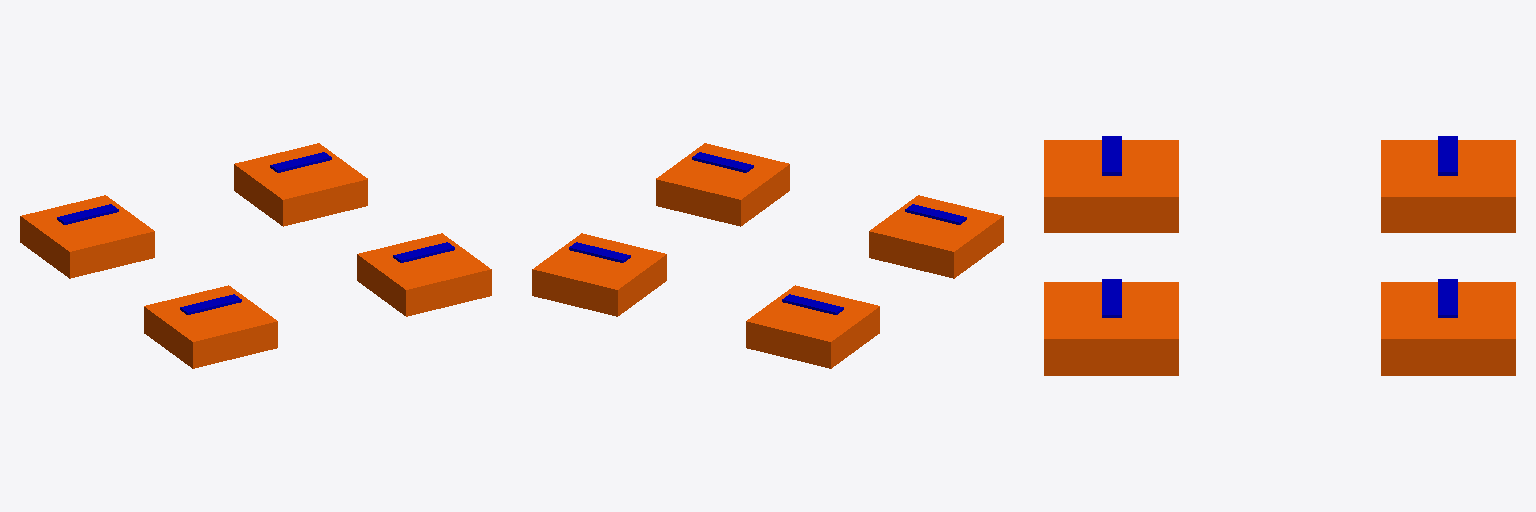
The robot description file, URDF, robot "flygripper_simple":
<?xml version="1.0" ?>
<!-- =================================================================================== -->
<!-- |    This document was autogenerated by xacro from src/flygripper_description/urdf/flygripper_simple.xacro | -->
<!-- |    EDITING THIS FILE BY HAND IS NOT RECOMMENDED                                 | -->
<!-- =================================================================================== -->
<robot name="flygripper_simple">
  <material name="black">
    <color rgba="0.0 0.0 0.0 1.0"/>
  </material>
  <material name="blue">
    <color rgba="0.0 0.0 0.8 1.0"/>
  </material>
  <material name="green">
    <color rgba="0.0 0.8 0.0 1.0"/>
  </material>
  <material name="grey">
    <color rgba="0.2 0.2 0.2 1.0"/>
  </material>
  <material name="pink">
    <color rgba="0.2 0.2 0.2 1.0"/>
  </material>
  <material name="silver">
    <color rgba="0.9137254901960784 0.9137254901960784 0.8470588235294118 1.0"/>
  </material>
  <material name="orange">
    <color rgba="1.0 0.4235294117647059 0.0392156862745098 1.0"/>
  </material>
  <material name="brown">
    <color rgba="0.8705882352941177 0.8117647058823529 0.7647058823529411 1.0"/>
  </material>
  <material name="red">
    <color rgba="0.8 0.0 0.0 1.0"/>
  </material>
  <material name="white">
    <color rgba="1.0 1.0 1.0 1.0"/>
  </material>
<![CDATA[
        mass: 0.6(part) + 4*0.004(rotor) + 0.0001*2 (imu, odom) + 0.15*2(objects)
        inertia_xy: (0.08333333*0.15*(0.1*0.1+0.03*0.03)+0.125*0.125*0.15)*4 = 0.02
        inertia_z: (0.08333333*0.15*(0.1*0.1+0.1*0.1)+0.125*0.125*2*0.15)*4 = 0.01

        rotor_pos = (0.1 + 0.15 - joint_position * 0.02)/2;
                  range from (0.05, 0.125), where joint_position range from (7.5, 0)

        ^                 ^    ------------------
      < 2 >             < 0 >  part_width: 0.1 m                         X
        V                 V    __________________                        ^
        |                 |                                              |
        |                 |    part_distance: 0.15 m              Y <----o
        ^                 ^    ------------------
      < 1 > ----------- < 3 >  point 3 in 0 frame: [-(part_distance + 2*part_width/2), 0, 0] => [-0.25, 0, 0]
        V                 V

    ]]>  <!-- rad/s -->
  <!-- m -->
  <!-- m -->
  <!--    <xacro:property name="prismatic_joint_limit" value="0.0"/> &lt;!&ndash; rigid!!!!!! &ndash;&gt;-->
  <!-- N -->
  <!-- Virtual dummy root link -->
  <link name="odom"/>
  <joint name="fixed" type="fixed">
    <parent link="odom"/>
    <child link="right_up_part"/>
  </joint>
  <!-- Right up -->
  <link name="right_up_part">
    <collision>
      <origin rpy="0 0 0" xyz="0 0 0"/>
      <geometry>
        <box size="0.1 0.1 0.03"/>
      </geometry>
    </collision>
    <visual>
      <origin rpy="0 0 0" xyz="0 0 0"/>
      <geometry>
        <box size="0.1 0.1 0.03"/>
      </geometry>
      <material name="orange"/>
    </visual>
    <inertial>
      <origin rpy="0 0 0" xyz="0 0 0"/>
      <mass value="0.15"/>
      <inertia ixx="0.00013624994550000003" ixy="0.0" ixz="0.0" iyy="0.00013624994550000003" iyz="0.0" izz="0.0002499999"/>
    </inertial>
  </link>
  <joint name="right_up_rotor_joint" type="continuous">
    <axis xyz="0 0 1"/>
    <origin rpy="0 0 0" xyz="0 0 0.025"/>
    <!--      limit not work while type="continuous"-->
    <!--        <limit effort="1.8" velocity="50."/>-->
    <!--        <dynamics damping="0.0" friction="0.0"/>-->
    <parent link="right_up_part"/>
    <child link="right_up_rotor"/>
  </joint>
  <link name="right_up_rotor">
    <collision>
      <origin rpy="0 0 0" xyz="0 0 0"/>
      <geometry>
        <box size="0.0635 0.015 0.003"/>
      </geometry>
    </collision>
    <visual>
      <origin rpy="0 0 0" xyz="0 0 0"/>
      <geometry>
        <box size="0.0635 0.015 0.003"/>
      </geometry>
      <material name="blue"/>
    </visual>
    <inertial>
      <origin rpy="0 0 0" xyz="0 0 0"/>
      <mass value="0.004"/>
      <inertia ixx="7.79999688e-08" ixy="0.0" ixz="0.0" iyy="1.3470827945000002e-06" iyz="0.0" izz="1.4190827657000003e-06"/>
    </inertial>
  </link>
  <!-- Right prismatic -->
  <joint name="right_prismatic_joint" type="prismatic">
    <axis xyz="1 0 0"/>
    <origin rpy="0 0 0" xyz="-0.25 0 0"/>
    <limit effort="50.0" lower="0" upper="0.1499" velocity="0.2"/>
    <dynamics damping="0.5" friction="0.5"/>
    <parent link="right_up_part"/>
    <child link="right_down_part"/>
  </joint>
  <!-- Right down -->
  <link name="right_down_part">
    <collision>
      <origin rpy="0 0 0" xyz="0 0 0"/>
      <geometry>
        <box size="0.1 0.1 0.03"/>
      </geometry>
    </collision>
    <visual>
      <origin rpy="0 0 0" xyz="0 0 0"/>
      <geometry>
        <box size="0.1 0.1 0.03"/>
      </geometry>
      <material name="orange"/>
    </visual>
    <inertial>
      <origin rpy="0 0 0" xyz="0 0 0"/>
      <mass value="0.15"/>
      <inertia ixx="0.00013624994550000003" ixy="0.0" ixz="0.0" iyy="0.00013624994550000003" iyz="0.0" izz="0.0002499999"/>
    </inertial>
  </link>
  <joint name="right_down_rotor_joint" type="continuous">
    <axis xyz="0 0 1"/>
    <origin rpy="0 0 0" xyz="0 0 0.025"/>
    <!--      limit not work while type="continuous"-->
    <!--        <limit effort="1.8" velocity="50."/>-->
    <!--        <dynamics damping="0.0" friction="0.0"/>-->
    <parent link="right_down_part"/>
    <child link="right_down_rotor"/>
  </joint>
  <link name="right_down_rotor">
    <collision>
      <origin rpy="0 0 0" xyz="0 0 0"/>
      <geometry>
        <box size="0.0635 0.015 0.003"/>
      </geometry>
    </collision>
    <visual>
      <origin rpy="0 0 0" xyz="0 0 0"/>
      <geometry>
        <box size="0.0635 0.015 0.003"/>
      </geometry>
      <material name="blue"/>
    </visual>
    <inertial>
      <origin rpy="0 0 0" xyz="0 0 0"/>
      <mass value="0.004"/>
      <inertia ixx="7.79999688e-08" ixy="0.0" ixz="0.0" iyy="1.3470827945000002e-06" iyz="0.0" izz="1.4190827657000003e-06"/>
    </inertial>
  </link>
  <!-- Down prismatic -->
  <joint name="down_prismatic_joint" type="prismatic">
    <axis xyz="0 -1 0"/>
    <origin rpy="0 0 0" xyz="0 0.25 0"/>
    <limit effort="50.0" lower="0" upper="0.1499" velocity="0.2"/>
    <dynamics damping="0.5" friction="0.5"/>
    <parent link="right_down_part"/>
    <child link="left_down_part"/>
    <mimic joint="right_prismatic_joint" multiplier="1" offset="0"/>
  </joint>
  <!-- Left down -->
  <link name="left_down_part">
    <collision>
      <origin rpy="0 0 0" xyz="0 0 0"/>
      <geometry>
        <box size="0.1 0.1 0.03"/>
      </geometry>
    </collision>
    <visual>
      <origin rpy="0 0 0" xyz="0 0 0"/>
      <geometry>
        <box size="0.1 0.1 0.03"/>
      </geometry>
      <material name="orange"/>
    </visual>
    <inertial>
      <origin rpy="0 0 0" xyz="0 0 0"/>
      <mass value="0.15"/>
      <inertia ixx="0.00013624994550000003" ixy="0.0" ixz="0.0" iyy="0.00013624994550000003" iyz="0.0" izz="0.0002499999"/>
    </inertial>
  </link>
  <joint name="left_down_rotor_joint" type="continuous">
    <axis xyz="0 0 1"/>
    <origin rpy="0 0 0" xyz="0 0 0.025"/>
    <!--      limit not work while type="continuous"-->
    <!--        <limit effort="1.8" velocity="50."/>-->
    <!--        <dynamics damping="0.0" friction="0.0"/>-->
    <parent link="left_down_part"/>
    <child link="left_down_rotor"/>
  </joint>
  <link name="left_down_rotor">
    <collision>
      <origin rpy="0 0 0" xyz="0 0 0"/>
      <geometry>
        <box size="0.0635 0.015 0.003"/>
      </geometry>
    </collision>
    <visual>
      <origin rpy="0 0 0" xyz="0 0 0"/>
      <geometry>
        <box size="0.0635 0.015 0.003"/>
      </geometry>
      <material name="blue"/>
    </visual>
    <inertial>
      <origin rpy="0 0 0" xyz="0 0 0"/>
      <mass value="0.004"/>
      <inertia ixx="7.79999688e-08" ixy="0.0" ixz="0.0" iyy="1.3470827945000002e-06" iyz="0.0" izz="1.4190827657000003e-06"/>
    </inertial>
  </link>
  <!-- Left prismatic -->
  <joint name="left_prismatic_joint" type="prismatic">
    <axis xyz="-1 0 0"/>
    <origin rpy="0 0 0" xyz="0.25 0 0"/>
    <limit effort="50.0" lower="0" upper="0.1499" velocity="0.2"/>
    <dynamics damping="0.5" friction="0.5"/>
    <parent link="left_down_part"/>
    <child link="left_up_part"/>
    <mimic joint="right_prismatic_joint" multiplier="1" offset="0"/>
  </joint>
  <!-- Left up -->
  <link name="left_up_part">
    <collision>
      <origin rpy="0 0 0" xyz="0 0 0"/>
      <geometry>
        <box size="0.1 0.1 0.03"/>
      </geometry>
    </collision>
    <visual>
      <origin rpy="0 0 0" xyz="0 0 0"/>
      <geometry>
        <box size="0.1 0.1 0.03"/>
      </geometry>
      <material name="orange"/>
    </visual>
    <inertial>
      <origin rpy="0 0 0" xyz="0 0 0"/>
      <mass value="0.15"/>
      <inertia ixx="0.00013624994550000003" ixy="0.0" ixz="0.0" iyy="0.00013624994550000003" iyz="0.0" izz="0.0002499999"/>
    </inertial>
  </link>
  <joint name="left_up_rotor_joint" type="continuous">
    <axis xyz="0 0 1"/>
    <origin rpy="0 0 0" xyz="0 0 0.025"/>
    <!--      limit not work while type="continuous"-->
    <!--        <limit effort="1.8" velocity="50."/>-->
    <!--        <dynamics damping="0.0" friction="0.0"/>-->
    <parent link="left_up_part"/>
    <child link="left_up_rotor"/>
  </joint>
  <link name="left_up_rotor">
    <collision>
      <origin rpy="0 0 0" xyz="0 0 0"/>
      <geometry>
        <box size="0.0635 0.015 0.003"/>
      </geometry>
    </collision>
    <visual>
      <origin rpy="0 0 0" xyz="0 0 0"/>
      <geometry>
        <box size="0.0635 0.015 0.003"/>
      </geometry>
      <material name="blue"/>
    </visual>
    <inertial>
      <origin rpy="0 0 0" xyz="0 0 0"/>
      <mass value="0.004"/>
      <inertia ixx="7.79999688e-08" ixy="0.0" ixz="0.0" iyy="1.3470827945000002e-06" iyz="0.0" izz="1.4190827657000003e-06"/>
    </inertial>
  </link>
  <!-- IMU and Odom -->
  <joint name="odom_joint" type="revolute">
    <origin rpy="0.0 0.0 0.0" xyz="0.0 0.0 0.0"/>
    <parent link="left_down_part"/>
    <child link="odom_link"/>
    <limit effort="0" lower="0" upper="0" velocity="0"/>
  </joint>
  <link name="odom_link">
    <inertial>
      <inertia ixx="0.00001" ixy="0.0" ixz="0.0" iyy="0.00001" iyz="0.0" izz="0.00001"/>
      <!-- [kg m^2] [kg m^2] [kg m^2] [kg m^2] [kg m^2] [kg m^2] -->
      <mass value="0.001"/>
      <!-- kg -->
      <origin rpy="0 0 0" xyz="0 0 0"/>
    </inertial>
  </link>
  <joint name="imu_joint" type="revolute">
    <origin rpy="0.0 0.0 0.0" xyz="0.0 0.0 0.0"/>
    <parent link="left_down_part"/>
    <child link="imu_link"/>
    <limit effort="0" lower="0" upper="0" velocity="0"/>
  </joint>
  <link name="imu_link">
    <inertial>
      <inertia ixx="0.00001" ixy="0.0" ixz="0.0" iyy="0.00001" iyz="0.0" izz="0.00001"/>
      <!-- [kg m^2] [kg m^2] [kg m^2] [kg m^2] [kg m^2] [kg m^2] -->
      <mass value="0.001"/>
      <!-- kg -->
      <origin rpy="0 0 0" xyz="0 0 0"/>
    </inertial>
  </link>
  <!-- Object for biased CoG -->
  <!--    <link name="object1_link">-->
  <!--        <inertial>-->
  <!--            <mass value="0.08"/> &lt;!&ndash; kg &ndash;&gt;-->
  <!--            <xacro:box_inertia x="0.05" y="0.05" z="0.05" mass="0.08" />-->
  <!--            <origin xyz="0 0 0" rpy="0 0 0" />-->
  <!--        </inertial>-->
  <!--    </link>-->
  <!--    <joint name="object1_joint" type="revolute">-->
  <!--        <origin xyz="0.0 0.0 0.0" rpy="0.0 0.0 0.0" />-->
  <!--        <parent link="left_down_part"/>-->
  <!--        <child link="object1_link"/>-->
  <!--        <limit upper="0" lower="0" effort="0" velocity="0" />-->
  <!--    </joint>-->
  <!--    <link name="object2_link">-->
  <!--        <inertial>-->
  <!--            <mass value="0.08"/> &lt;!&ndash; kg &ndash;&gt;-->
  <!--            <xacro:box_inertia x="0.05" y="0.05" z="0.05" mass="0.08" />-->
  <!--            <origin xyz="0 0 0" rpy="0 0 0" />-->
  <!--        </inertial>-->
  <!--    </link>-->
  <!--    <joint name="object2_joint" type="revolute">-->
  <!--        <origin xyz="0.0 0.0 0.0" rpy="0.0 0.0 0.0" />-->
  <!--        <parent link="right_down_part"/>-->
  <!--        <child link="object2_link"/>-->
  <!--        <limit upper="0" lower="0" effort="0" velocity="0" />-->
  <!--    </joint>-->
  <gazebo>
    <plugin filename="libgazebo_rotor_plugin.so" name="flygripper_simple_rotor_plugin">
      <robotNamespace>flygripper_simple</robotNamespace>
      <rotor id="0">
        <jointName>right_up_rotor_joint</jointName>
        <linkName>right_up_rotor</linkName>
        <turningDirection>ccw</turningDirection>
      </rotor>
      <rotor id="1">
        <jointName>left_down_rotor_joint</jointName>
        <linkName>left_down_rotor</linkName>
        <turningDirection>ccw</turningDirection>
      </rotor>
      <rotor id="2">
        <jointName>left_up_rotor_joint</jointName>
        <linkName>left_up_rotor</linkName>
        <turningDirection>cw</turningDirection>
      </rotor>
      <rotor id="3">
        <jointName>right_down_rotor_joint</jointName>
        <linkName>right_down_rotor</linkName>
        <turningDirection>cw</turningDirection>
      </rotor>
      <motorConstant>6.56145e-7</motorConstant>
      <momentConstant>0.0157</momentConstant>
      <rotorDragCoefficient>0.0</rotorDragCoefficient>
      <!-- 8.06428e-05 -->
      <rollingMomentCoefficient>0.0</rollingMomentCoefficient>
      <!-- 0.000001 -->
      <maxRotVelocity>4000</maxRotVelocity>
      <!-- 3002 -->
      <timeConstantUp>0.0</timeConstantUp>
      <!-- 0.0125 -->
      <timeConstantDown>0.0</timeConstantDown>
      <!-- 0.025 -->
      <rotorVelocitySlowdownSim>10</rotorVelocitySlowdownSim>
      <rosCommandTopicName>rotor_command</rosCommandTopicName>
      <rosFeedbackTopicName>rotor_speed</rosFeedbackTopicName>
    </plugin>
    <plugin filename="libgazebo_reconfigurable_plugin.so" name="flygripper_simple_reconfigurable_plugin">
      <robotNamespace>flygripper_simple</robotNamespace>
      <rosCommandTopicName>actuator_command</rosCommandTopicName>
      <rosFeedbackTopicName>actuator_state</rosFeedbackTopicName>
      <reconfigurableJoint id="0">
        <jointName>right_prismatic_joint</jointName>
        <multiplier>0.02</multiplier>
        <!-- Mapping control input from 0-1.0 -->
        <offset>0.0</offset>
        <sensitiveness>0.0</sensitiveness>
        <kp>300</kp>
        <kd>30</kd>
      </reconfigurableJoint>
      <reconfigurableJoint id="1">
        <jointName>down_prismatic_joint</jointName>
        <multiplier>0.02</multiplier>
        <offset>0.0</offset>
        <sensitiveness>0.0</sensitiveness>
        <kp>300</kp>
        <kd>30</kd>
      </reconfigurableJoint>
      <reconfigurableJoint id="2">
        <jointName>left_prismatic_joint</jointName>
        <multiplier>0.02</multiplier>
        <offset>0.0</offset>
        <sensitiveness>0.0</sensitiveness>
        <kp>300</kp>
        <kd>30</kd>
      </reconfigurableJoint>
    </plugin>
    <plugin filename="libgazebo_odometry_plugin.so" name="flygripper_simple_odometry_plugin">
      <robotNamespace>flygripper_simple</robotNamespace>
      <linkName>odom_link</linkName>
      <randomEngineSeed>0</randomEngineSeed>
      <noiseNormalPosition>0.0 0.0 0.0</noiseNormalPosition>
      <noiseNormalQuaternion>0.0 0.0 0.0</noiseNormalQuaternion>
      <noiseNormalLinearVelocity>0.0 0.0 0.0</noiseNormalLinearVelocity>
      <noiseNormalAngularVelocity>0.0 0.0 0.0</noiseNormalAngularVelocity>
      <rosOdomTopicName>odom</rosOdomTopicName>
      <frameId>world</frameId>
      <childFrameId>flygripper_simple</childFrameId>
      <!-- xjb 没啥用 不发 tf-->
      <publishFrequency>333</publishFrequency>
      <!-- 333 -->
      <measurementDelay>0.0</measurementDelay>
      <!-- 0.02 -->
    </plugin>
    <plugin filename="libgazebo_imu_plugin.so" name="flygripper_simple_imu_plugin">
      <robotNamespace>flygripper_simple</robotNamespace>
      <linkName>imu_link</linkName>
      <frameId>flygripper_simple</frameId>
      <!-- xjb 没啥用 不发 tf -->
      <randomEngineSeed>0</randomEngineSeed>
      <gyroscopeNoiseDensity>0.0003394</gyroscopeNoiseDensity>
      <gyroscopeBiasRandomWalk>0.000038785</gyroscopeBiasRandomWalk>
      <gyroscopeBiasCorrelationTime>1000.0</gyroscopeBiasCorrelationTime>
      <gyroscopeTurnOnBiasSigma>0.0087</gyroscopeTurnOnBiasSigma>
      <accelerometerNoiseDensity>0.004</accelerometerNoiseDensity>
      <accelerometerRandomWalk>0.006</accelerometerRandomWalk>
      <accelerometerBiasCorrelationTime>300.0</accelerometerBiasCorrelationTime>
      <accelerometerTurnOnBiasSigma>0.1960</accelerometerTurnOnBiasSigma>
      <!--                <gyroscopeNoiseDensity>0.0</gyroscopeNoiseDensity>-->
      <!--                <gyroscopeBiasRandomWalk>0.0</gyroscopeBiasRandomWalk>-->
      <!--                <gyroscopeBiasCorrelationTime>0.0</gyroscopeBiasCorrelationTime>-->
      <!--                <gyroscopeTurnOnBiasSigma>0.0</gyroscopeTurnOnBiasSigma>-->
      <!--                <accelerometerNoiseDensity>0.0</accelerometerNoiseDensity>-->
      <!--                <accelerometerRandomWalk>0.0</accelerometerRandomWalk>-->
      <!--                <accelerometerBiasCorrelationTime>0.0</accelerometerBiasCorrelationTime>-->
      <!--                <accelerometerTurnOnBiasSigma>0.0</accelerometerTurnOnBiasSigma>-->
      <rosImuTopicName>imu</rosImuTopicName>
      <publishFrequency>333</publishFrequency>
      <!-- 333 -->
    </plugin>
    <plugin filename="libgazebo_grasp_plugin.so" name="flygripper_simple_grasp_plugin">
      <robotNamespace>flygripper_simple</robotNamespace>
      <updateRate>100</updateRate>
      <disableCollisionsOnAttach>true</disableCollisionsOnAttach>
      <graspForcesAngleTolerance>120</graspForcesAngleTolerance>
      <graspCountThreshold>10</graspCountThreshold>
      <graspCountMax>20</graspCountMax>
      <releaseDistanceTolerance>0.01</releaseDistanceTolerance>
      <releaseToleranceMode>+</releaseToleranceMode>
      <gripperLink>left_up_part</gripperLink>
      <gripperLink>left_down_part</gripperLink>
      <gripperLink>odom</gripperLink>
      <gripperLink>right_down_part</gripperLink>
      <rosGraspTopicName>grasp_status</rosGraspTopicName>
    </plugin>
  </gazebo>
  <gazebo reference="right_up_part">
    <mu1 value="10.0"/>
    <mu2 value="50.0"/>
    <kp value="1000000.0"/>
    <kd value="1.0"/>
  </gazebo>
  <gazebo reference="right_down_part">
    <mu1 value="10.0"/>
    <mu2 value="50.0"/>
    <kp value="1000000.0"/>
    <kd value="1.0"/>
  </gazebo>
  <gazebo reference="left_up_part">
    <mu1 value="10.0"/>
    <mu2 value="50.0"/>
    <kp value="1000000.0"/>
    <kd value="1.0"/>
  </gazebo>
  <gazebo reference="left_down_part">
    <mu1 value="10.0"/>
    <mu2 value="50.0"/>
    <kp value="1000000.0"/>
    <kd value="1.0"/>
  </gazebo>
  <gazebo reference="left_prismatic_joint">
    <implicitSpringDamper>1</implicitSpringDamper>
    <provideFeedback>true</provideFeedback>
  </gazebo>
  <gazebo reference="down_prismatic_joint">
    <implicitSpringDamper>1</implicitSpringDamper>
    <provideFeedback>true</provideFeedback>
  </gazebo>
  <gazebo reference="right_prismatic_joint">
    <implicitSpringDamper>1</implicitSpringDamper>
    <provideFeedback>true</provideFeedback>
  </gazebo>
</robot>

--- Render facts (derived) ---
Views: 3 orthographic renders of the robot side by side, from view 1: azimuth 30°, elevation 25°; view 2: azimuth 150°, elevation 25°; view 3: azimuth 270°, elevation 25°.
Robot: flygripper_simple — 11 links, 10 joints (2 revolute, 4 continuous, 3 prismatic, 1 fixed); root link odom; default pose: every joint at zero.
Visible links, largest first — view 1: right_up_part, left_down_part, right_down_part, left_up_part, right_up_rotor, left_down_rotor, left_up_rotor, right_down_rotor; view 2: right_down_part, left_up_part, left_down_part, right_up_part, right_up_rotor, right_down_rotor, left_up_rotor, left_down_rotor; view 3: right_up_part, left_up_part, right_down_part, left_down_part, right_down_rotor, left_down_rotor, right_up_rotor, left_up_rotor.
Boxes of the visible links, left/top/right/bottom form: right_up_part: left=357, top=233, right=491, bottom=316; left_down_part: left=20, top=195, right=154, bottom=278; right_down_part: left=144, top=285, right=277, bottom=368; left_up_part: left=234, top=143, right=367, bottom=226; right_up_rotor: left=393, top=242, right=454, bottom=262; left_down_rotor: left=57, top=204, right=118, bottom=224; left_up_rotor: left=270, top=152, right=331, bottom=172; right_down_rotor: left=180, top=294, right=241, bottom=314; right_down_part: left=869, top=195, right=1003, bottom=278; left_up_part: left=532, top=233, right=666, bottom=316; left_down_part: left=746, top=285, right=879, bottom=368; right_up_part: left=656, top=143, right=789, bottom=226; right_up_rotor: left=692, top=152, right=753, bottom=172; right_down_rotor: left=905, top=204, right=966, bottom=224; left_up_rotor: left=569, top=242, right=630, bottom=262; left_down_rotor: left=782, top=294, right=843, bottom=314; right_up_part: left=1044, top=282, right=1178, bottom=375; left_up_part: left=1381, top=282, right=1515, bottom=375; right_down_part: left=1044, top=140, right=1178, bottom=232; left_down_part: left=1381, top=140, right=1515, bottom=232; right_down_rotor: left=1102, top=136, right=1121, bottom=175; left_down_rotor: left=1438, top=136, right=1457, bottom=175; right_up_rotor: left=1102, top=279, right=1121, bottom=317; left_up_rotor: left=1438, top=279, right=1457, bottom=317.
Bounding box of the posed robot: 0.35 × 0.35 × 0.0415 m (x, y, z).
Geometry: primitives only (box / cylinder / sphere), no mesh files.
